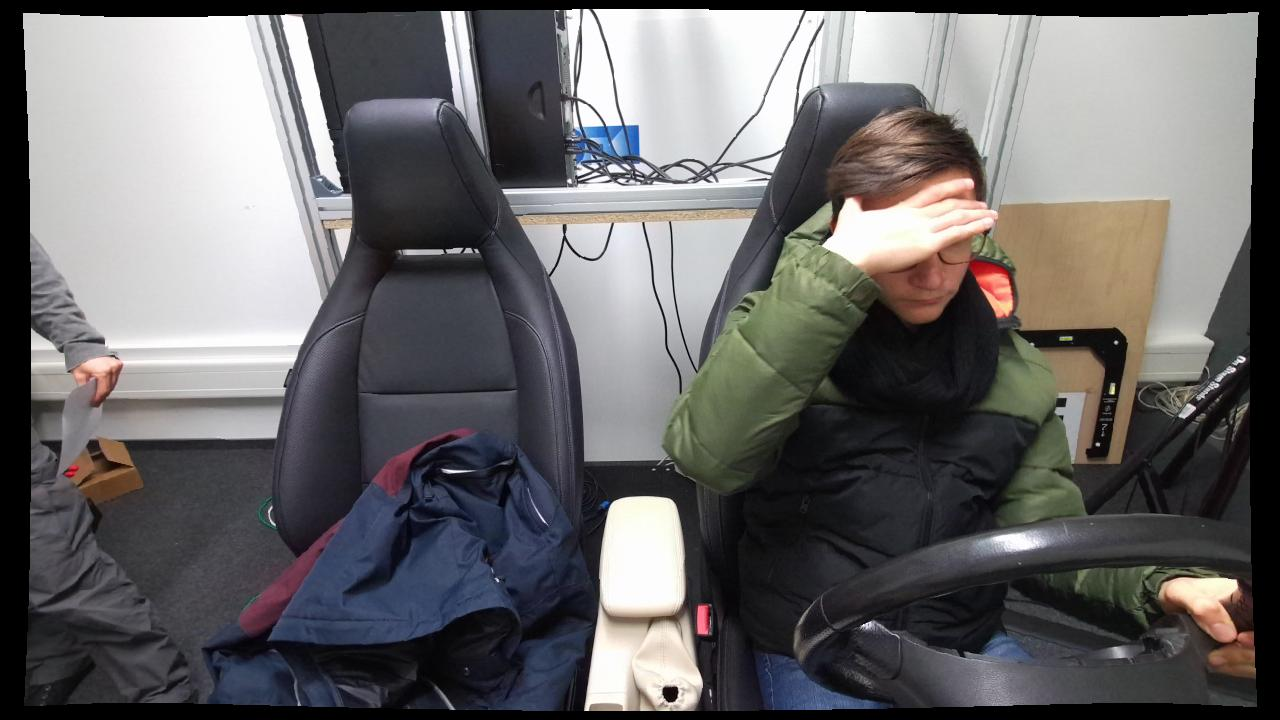Distracted: (651, 99, 1056, 713)
